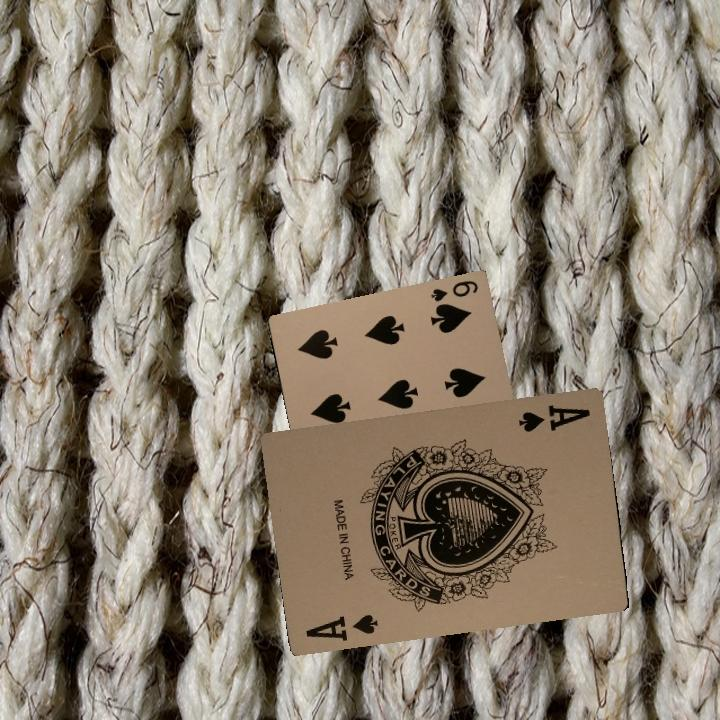6s: (427, 277, 481, 304)
As: (514, 401, 592, 435), (301, 610, 379, 644)
